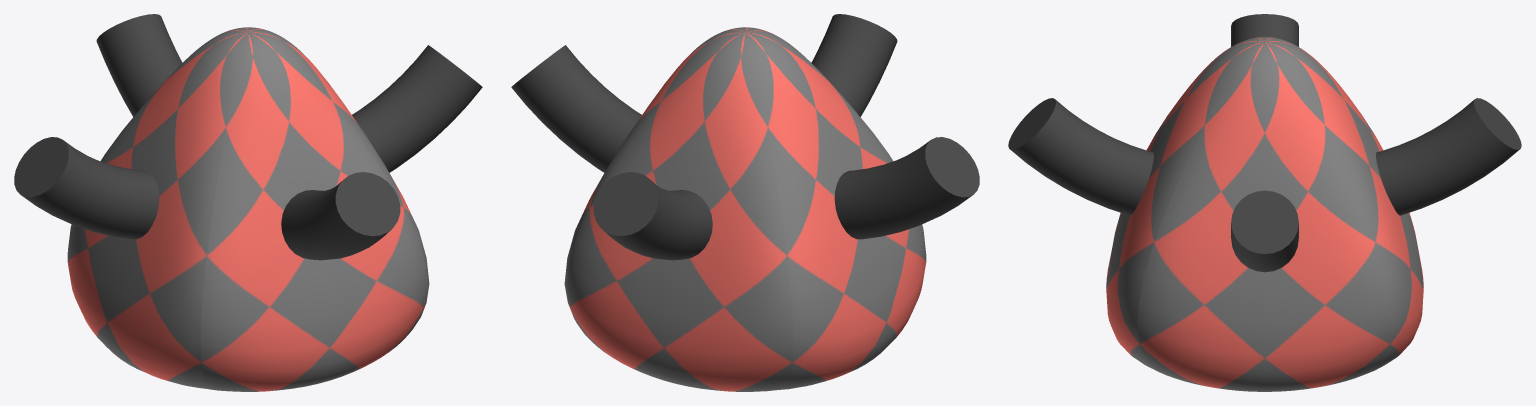
Rendered from Body(Pyramidal)+Colour(More_Red)+Arms(Bent_Up)+Pattern(Diamond).fbx.
3 views of the same model, side by side, from view 1: azimuth 30°, elevation 25°; view 2: azimuth 150°, elevation 25°; view 3: azimuth 270°, elevation 25° (orthographic). The views are drawn at different scales.
Visible parts, largest first — view 1: Body(Pyramidal)+Colour(More_Red)+Arms(Bent_Up)+Pattern(Diamo (×5); view 2: Body(Pyramidal)+Colour(More_Red)+Arms(Bent_Up)+Pattern(Diamo (×5); view 3: Body(Pyramidal)+Colour(More_Red)+Arms(Bent_Up)+Pattern(Diamo (×5).
Boxes of the visible parts, x1=… form: Body(Pyramidal)+Colour(More_Red)+Arms(Bent_Up)+Pattern(Diamo (×5): x1=14, y1=14, x2=482, y2=391; Body(Pyramidal)+Colour(More_Red)+Arms(Bent_Up)+Pattern(Diamo (×5): x1=511, y1=14, x2=979, y2=391; Body(Pyramidal)+Colour(More_Red)+Arms(Bent_Up)+Pattern(Diamo (×5): x1=1008, y1=14, x2=1521, y2=391.
Size of the model in its own units: 60.67 by 40 by 60.67.
Materials: 2 (2 with a texture image).
